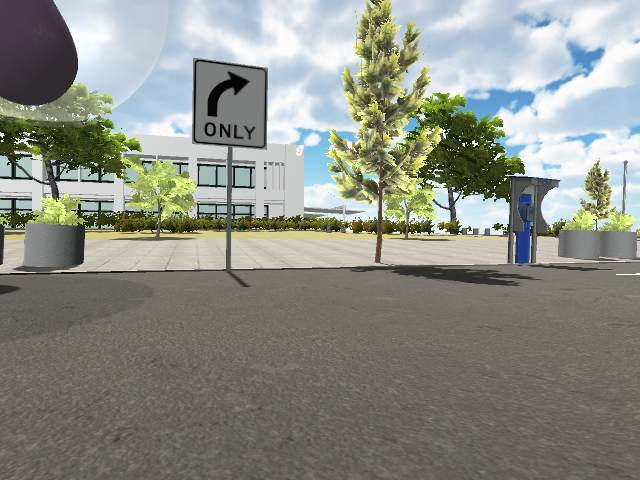arrow_right: (204, 69, 254, 117)
